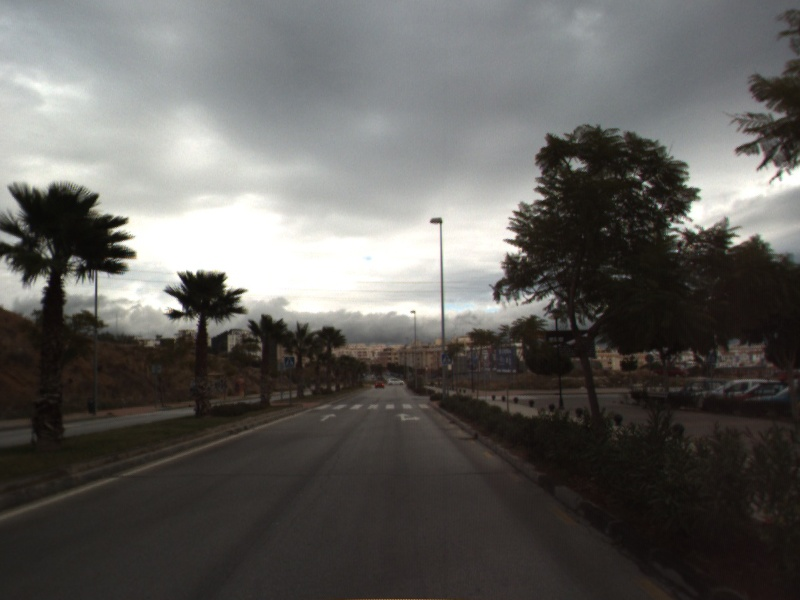STRAIGHT: (318, 411, 339, 423)
STRAIGHT_RIGHT: (394, 411, 423, 423)
